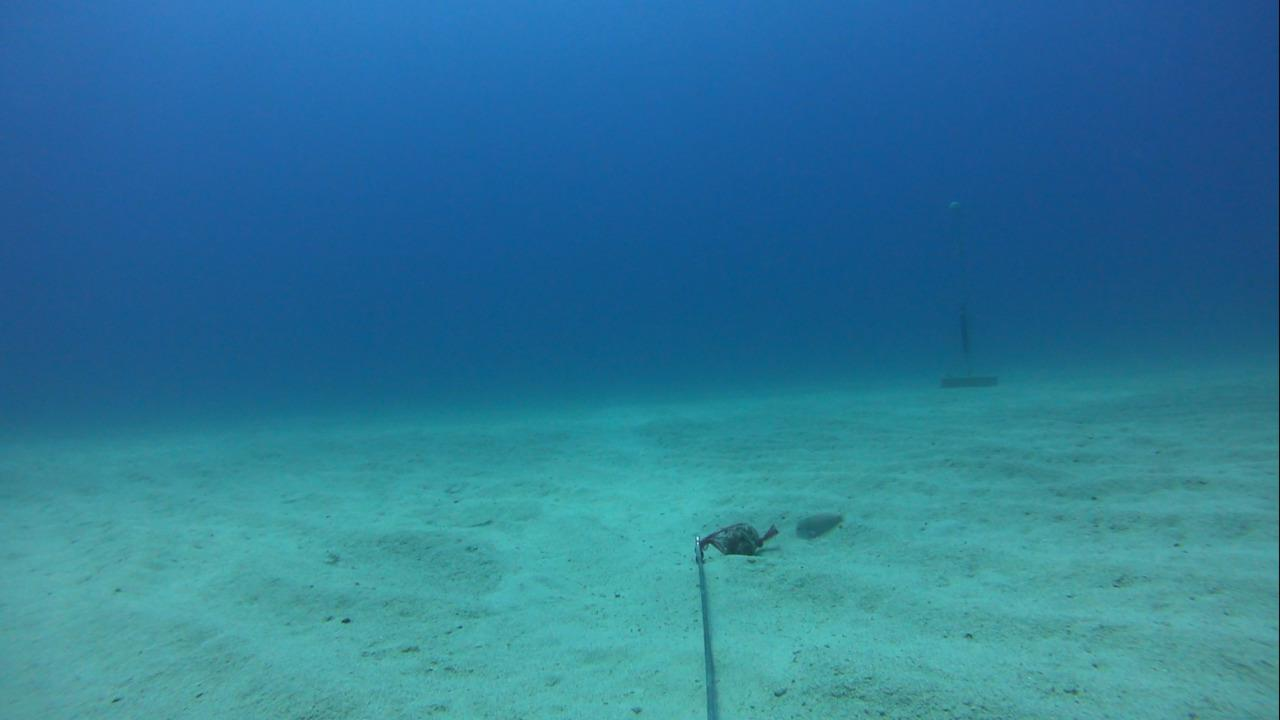raor: (786, 501, 850, 545)
